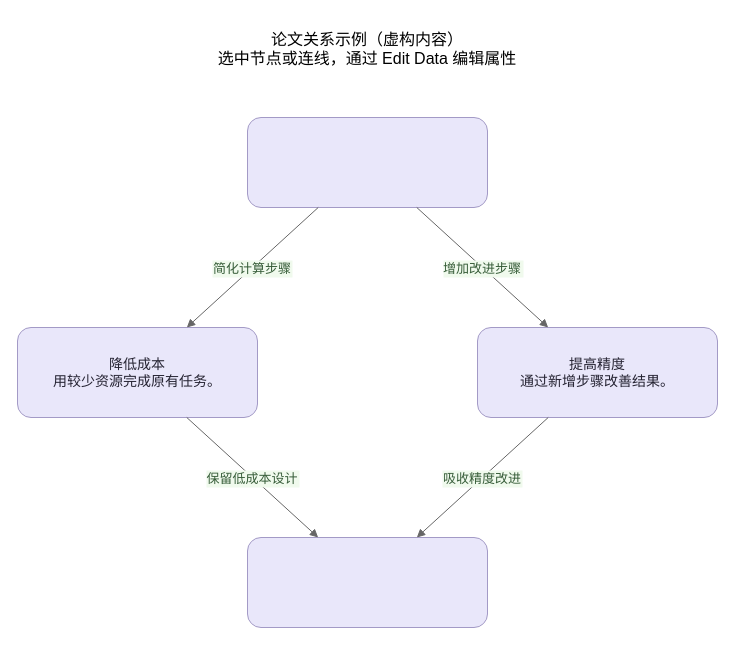
Some shapes in this 735 by 645 pixel diagram are drawn without their labels. Here are the shapes that lost their labels. From the top down, the centre of each, then its label:
At [367,162]: "基础方法 提出这组工作的共同出发点。".
At [367,582]: "结合两种改进 同时考虑资源消耗和结果精度。".
